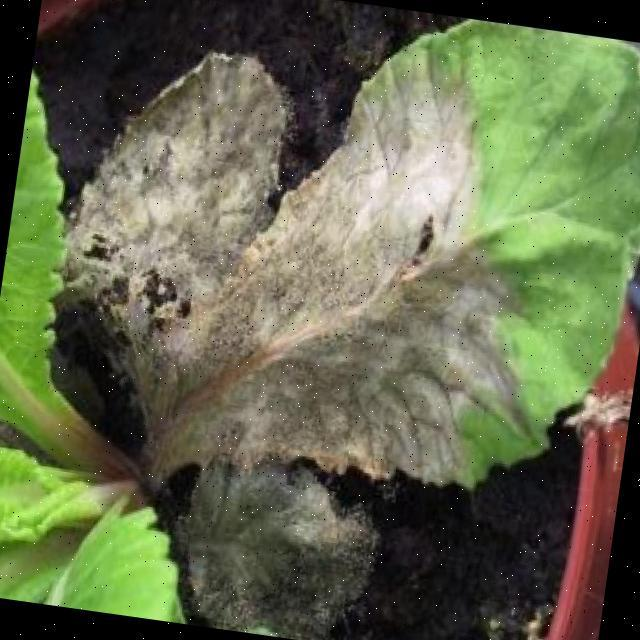Septoria_Blight: (7, 0, 640, 640)
